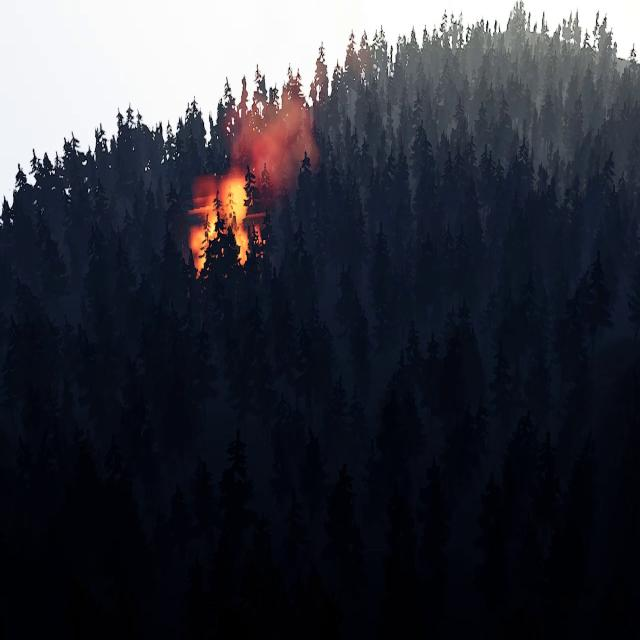fire: (191, 175, 264, 270)
smoke: (228, 96, 318, 197)
